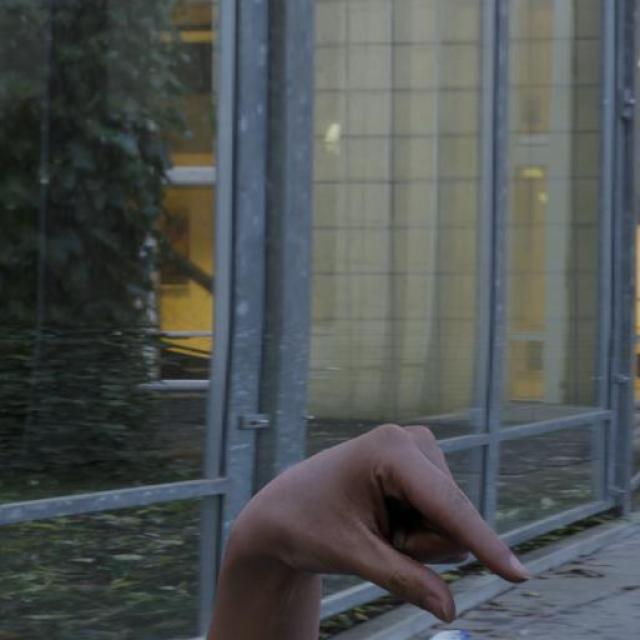Q: (228, 411, 540, 639)
